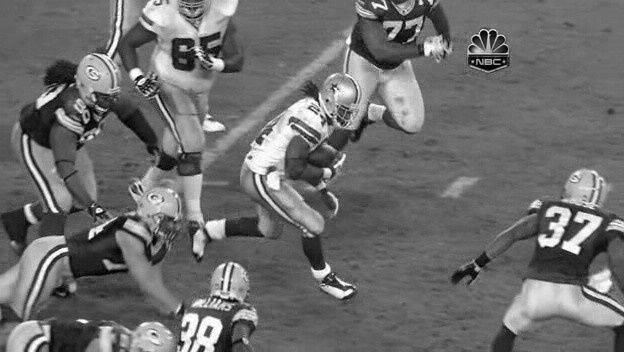person: (322, 76, 358, 128), (321, 76, 357, 128), (323, 76, 359, 128), (322, 75, 358, 127), (322, 77, 358, 129)
target_negative: (219, 209, 548, 307), (53, 219, 270, 317), (426, 25, 466, 124), (492, 60, 603, 77), (423, 327, 488, 342), (461, 339, 584, 344)
